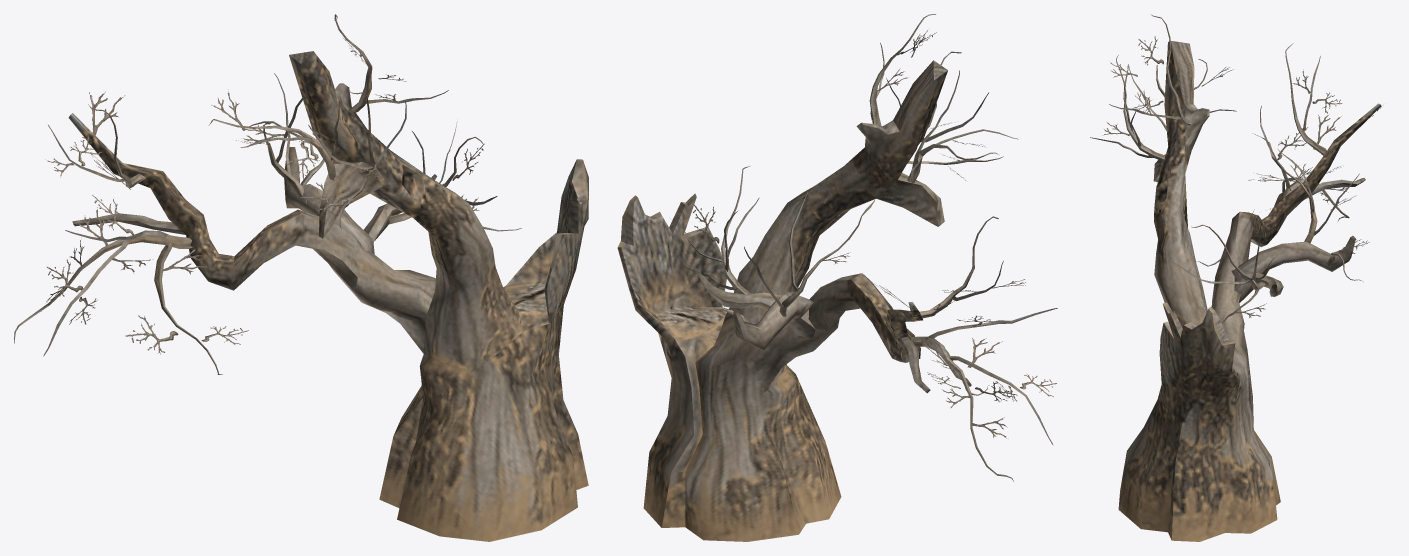
Rendered from sm_shu_1.FBX.
3 views of the same model, side by side, from view 1: azimuth 30°, elevation 25°; view 2: azimuth 150°, elevation 25°; view 3: azimuth 270°, elevation 25° (orthographic). The views are drawn at different scales.
Visible parts, largest first — view 1: sm_shu_1; view 2: sm_shu_1; view 3: sm_shu_1.
Part boxes in pixels (x1,y1,x2,y2): sm_shu_1: (14,14,588,541); sm_shu_1: (617,14,1057,541); sm_shu_1: (1090,14,1381,541).
Bounding box in the file's own units: 764 × 785 × 511.
